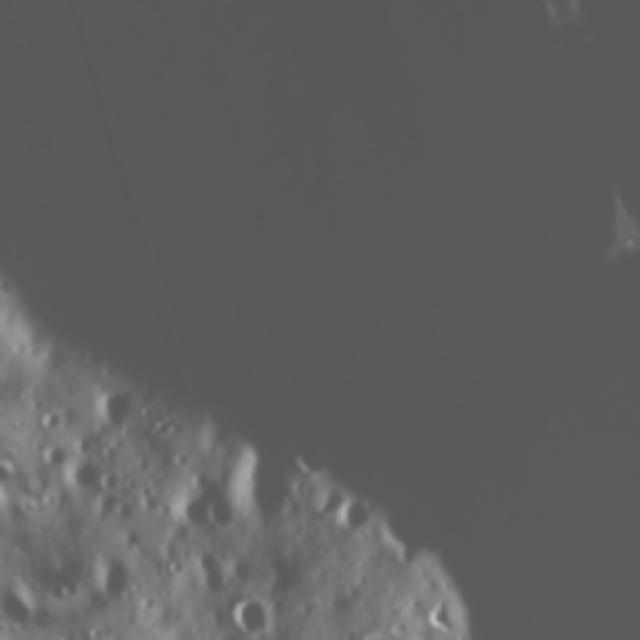crater: (157, 457, 243, 543), (3, 371, 54, 498), (214, 580, 286, 640), (84, 374, 150, 434), (81, 542, 141, 606), (320, 484, 377, 544), (55, 446, 111, 505), (348, 614, 415, 640)
